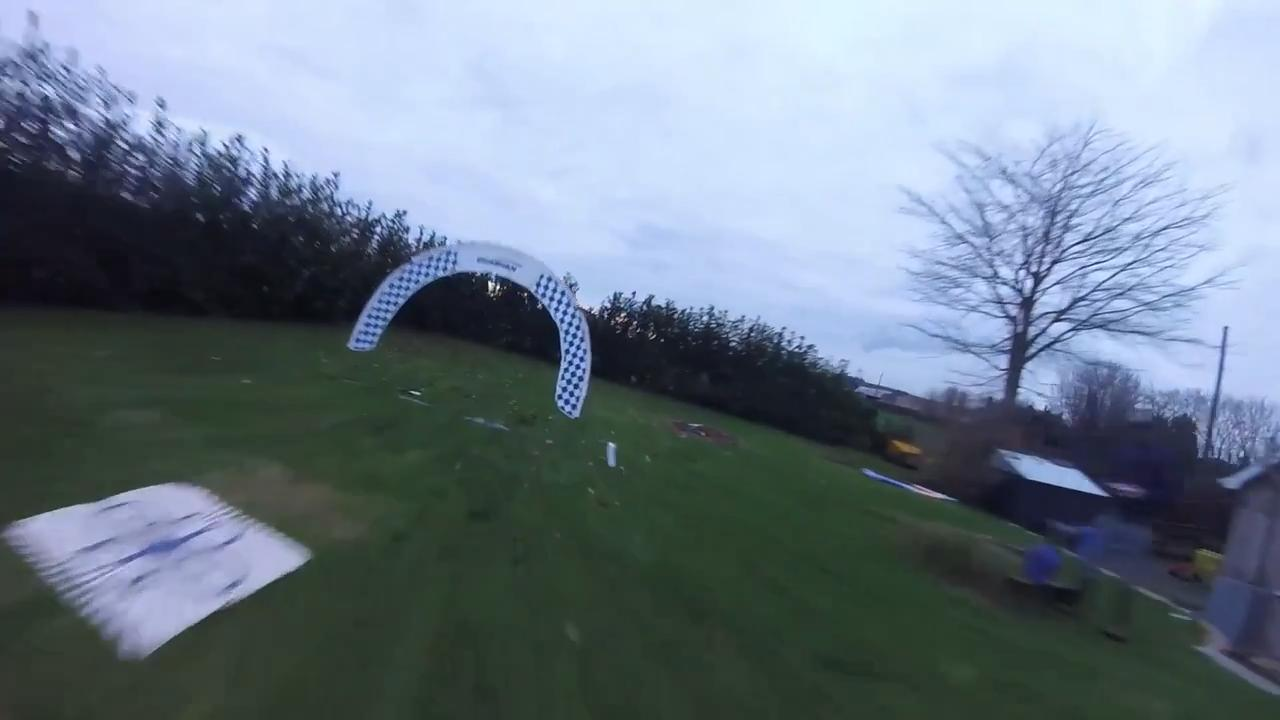gate: (345, 241, 591, 436)
